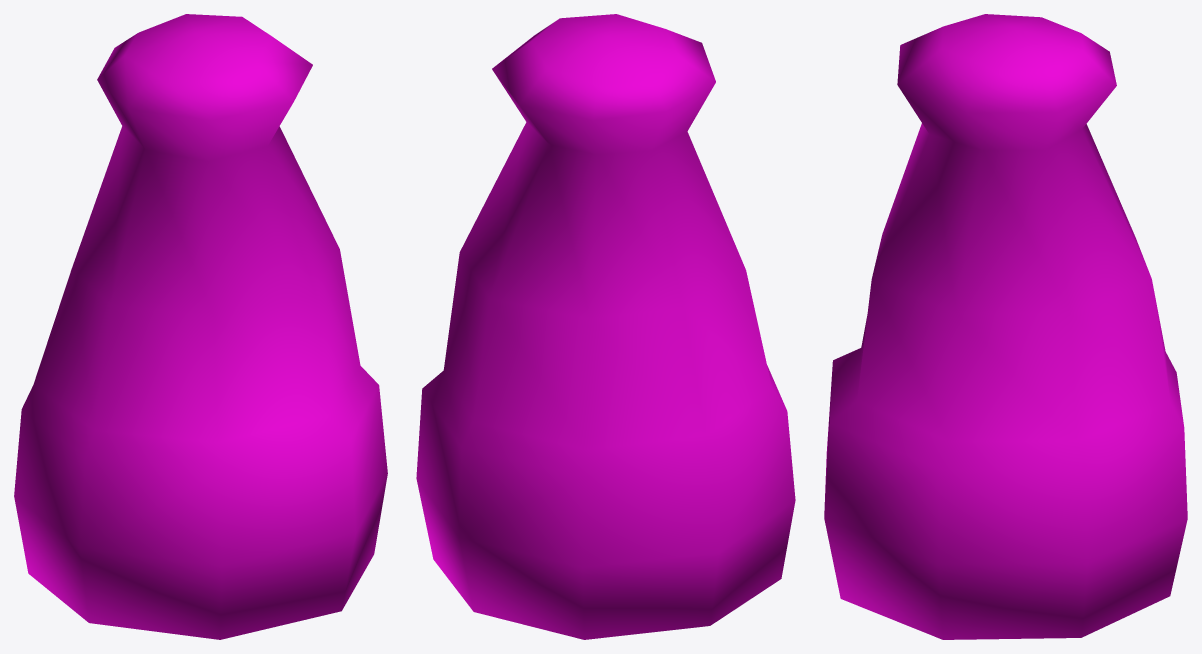
The model's file is furnace_v3_COL.fbx.
The picture shows the model from 3 angles, left to right: view 1: azimuth 30°, elevation 25°; view 2: azimuth 150°, elevation 25°; view 3: azimuth 270°, elevation 25°; orthographic projection.
Parts seen in each view (by area): view 1: furnace_v3_COL; view 2: furnace_v3_COL; view 3: furnace_v3_COL.
Boxes of the visible parts, x1,y1,x2,y2 form: furnace_v3_COL: [14, 14, 387, 639]; furnace_v3_COL: [416, 14, 795, 639]; furnace_v3_COL: [824, 14, 1187, 639].
Bounding box in the file's own units: 98.24 × 162 × 98.76.
